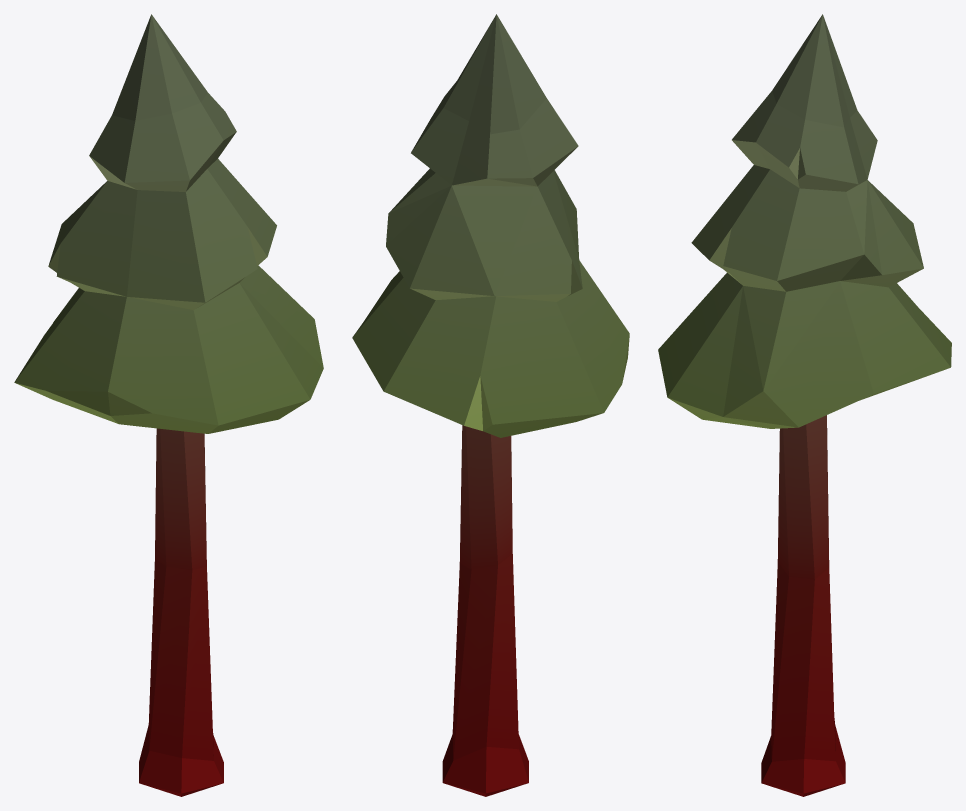
File: synty-tree-polypine-03.gltf
3 renders of one model, left to right at view 1: azimuth 30°, elevation 25°; view 2: azimuth 150°, elevation 25°; view 3: azimuth 270°, elevation 25°, orthographic. The views are drawn at different scales.
Parts seen in each view (by area): view 1: SM_Tree_PolyPine_03; view 2: SM_Tree_PolyPine_03; view 3: SM_Tree_PolyPine_03.
Boxes of the visible parts, bbox=[...] form: SM_Tree_PolyPine_03: bbox=[14, 14, 323, 796]; SM_Tree_PolyPine_03: bbox=[352, 14, 629, 796]; SM_Tree_PolyPine_03: bbox=[658, 14, 951, 796].
Bounding box in the file's own units: 1.13 × 3.19 × 1.1.
1 material, 1 textured.
